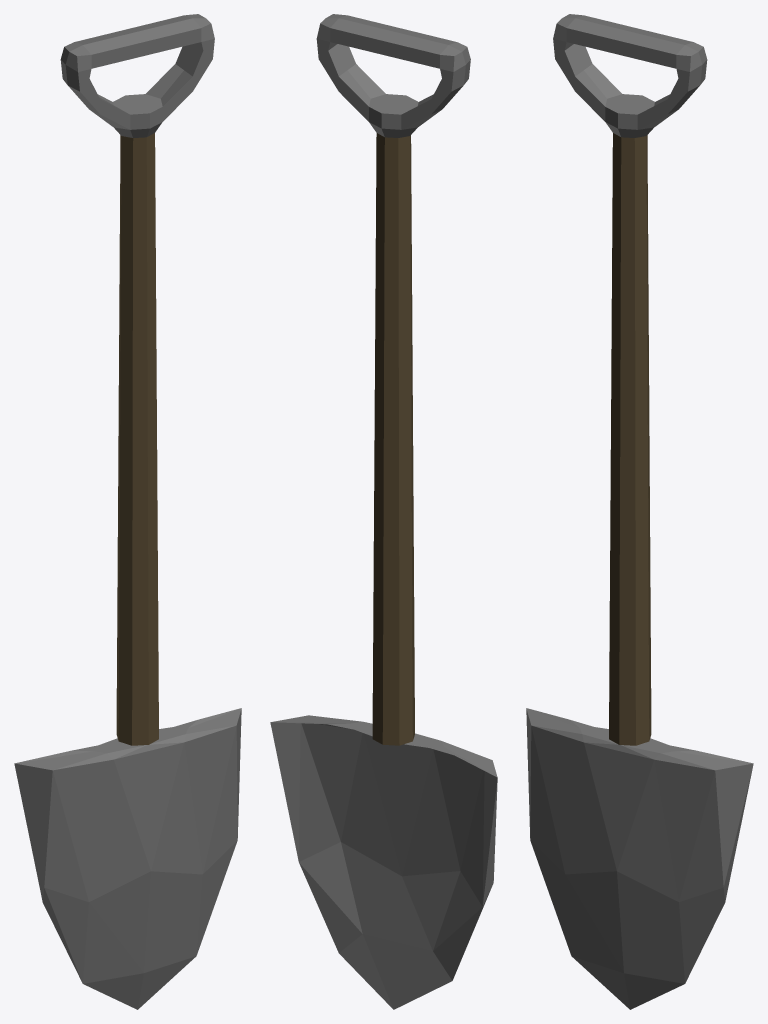
Rendered from enchantedforest_shovel.fbx.
3 renders of one model, left to right at view 1: azimuth 30°, elevation 25°; view 2: azimuth 150°, elevation 25°; view 3: azimuth 330°, elevation 25°, orthographic.
Visible parts, largest first — view 1: Icosphere.015; view 2: Icosphere.015; view 3: Icosphere.015.
Boxes of the visible parts, left/top/right/bottom form: Icosphere.015: left=14, top=14, right=241, bottom=1009; Icosphere.015: left=270, top=14, right=497, bottom=1009; Icosphere.015: left=526, top=14, right=753, bottom=1009.
Bounding box in the file's own units: 0.3438 × 1.41 × 0.0669.
